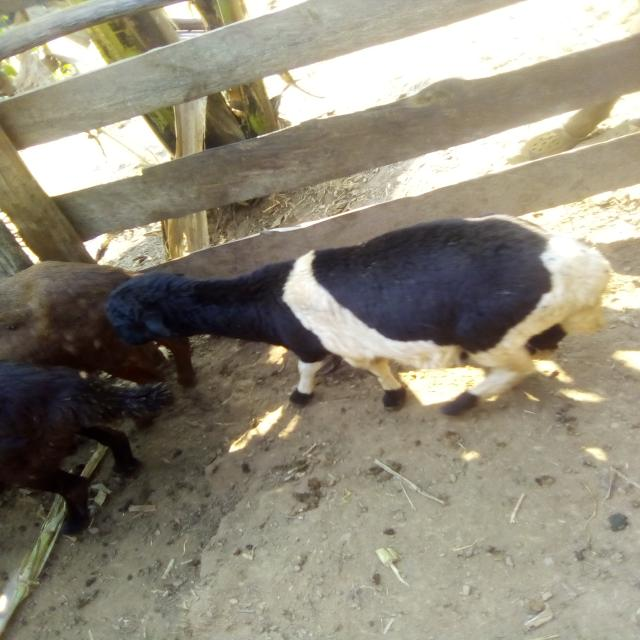sheep: (62, 209, 620, 448)
